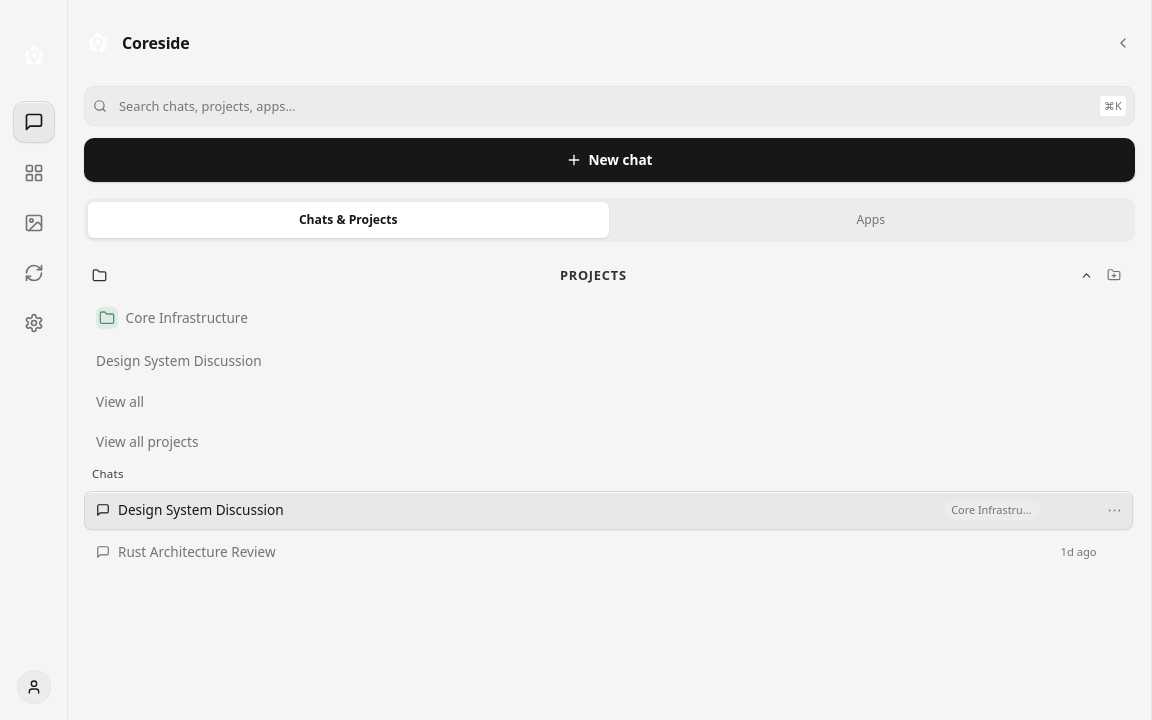
Test: DualSidebar Architecture › Dual-Sidebar Composition & IconRail Navigation › switches contextual mode to Apps when clicking the Apps IconRail button
Step 1. Click the button named "Personal Apps" → (34, 173), box x1=12 y1=152 x2=54 y2=194
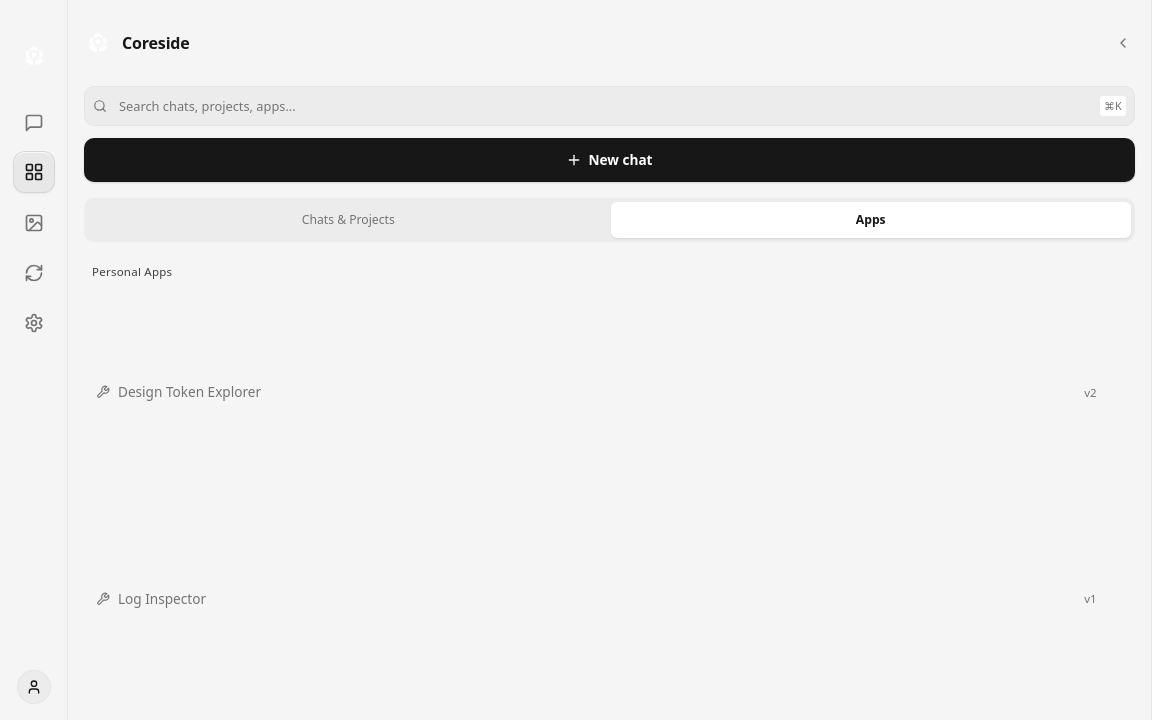
Check: the text "Personal Apps" is shown, box x1=92 y1=264 x2=172 y2=279
Check: the text "Design Token Explorer" is shown, box x1=118 y1=382 x2=261 y2=401
